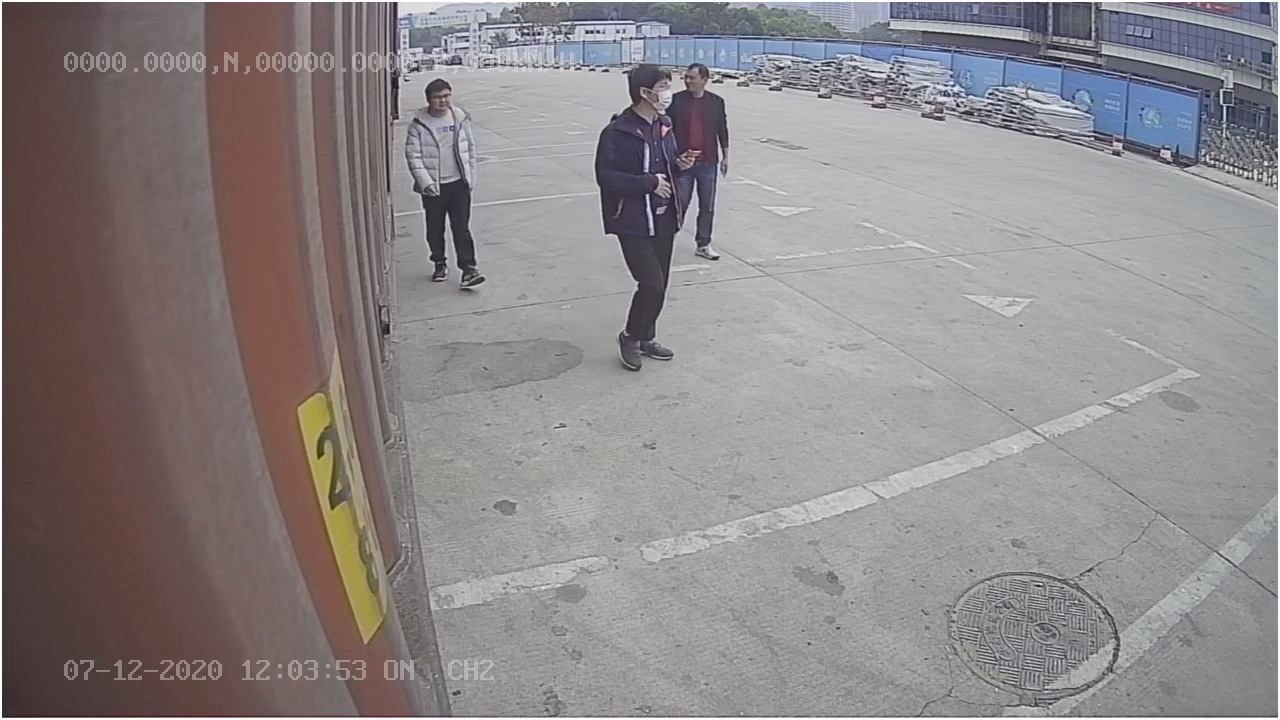person: (590, 64, 688, 372)
